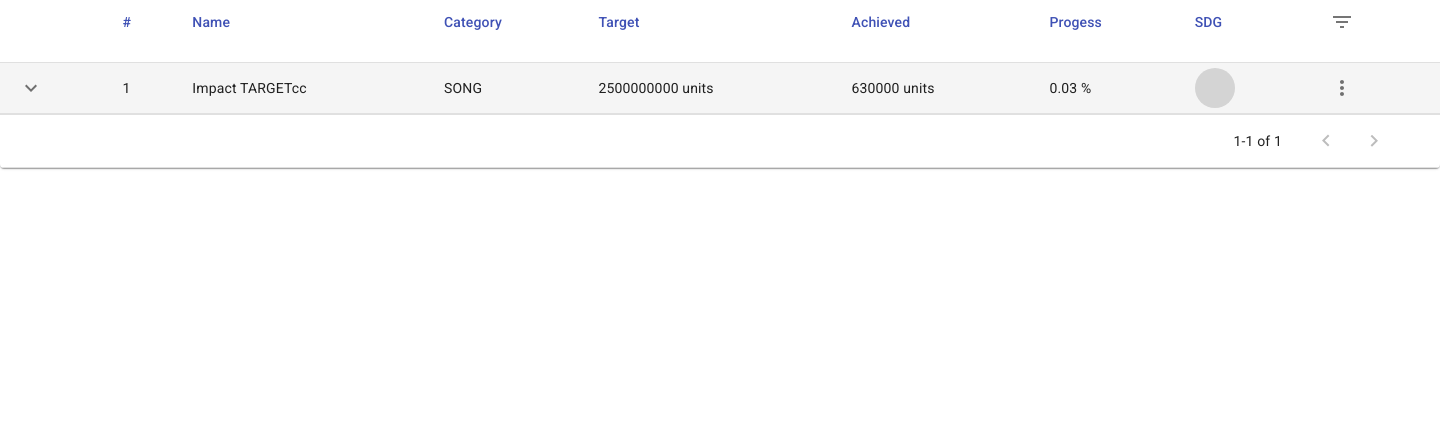
Test: Impact Table and impact trackline table Graphql Calls and data listing › Data listing of impact trackline table
What coordinates should you click on to do the following:
click the button named "expand row"
I would click on:
 (31, 88)
Its box is [16,73,46,103].
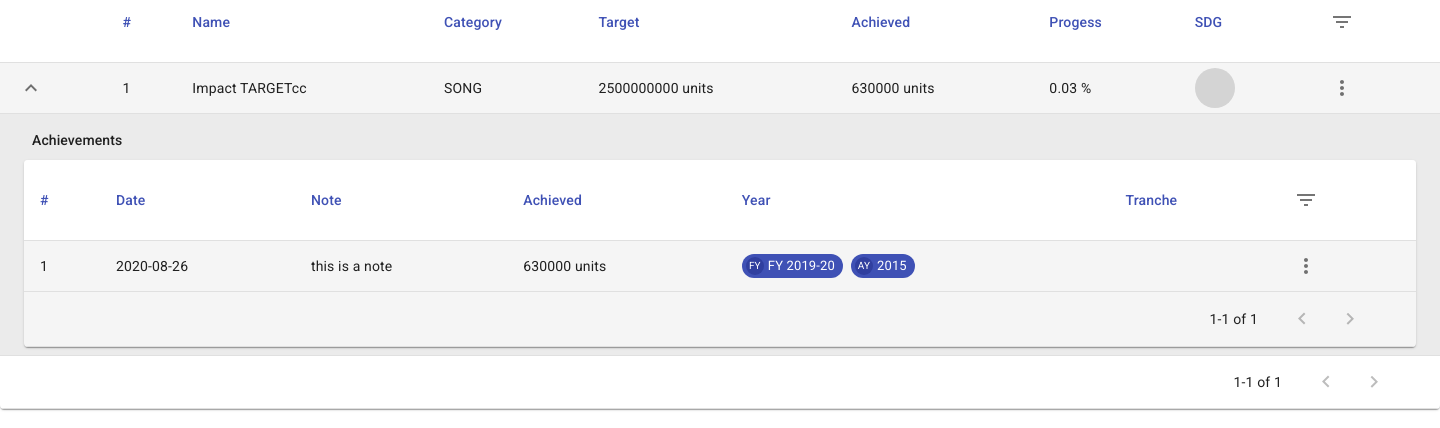
Result: the text "this is a note" is shown at [295,240,507,292]
Result: the text "2020-08-26" is shown at [100,240,295,292]
